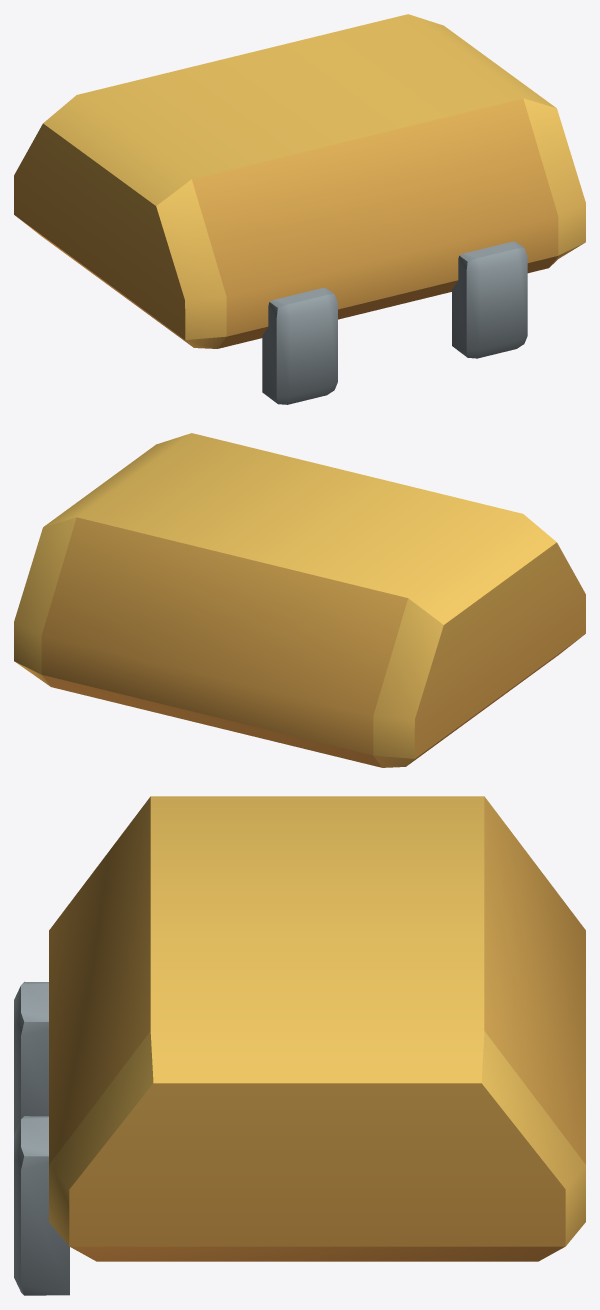
File: ammo_crate_withLid_ammo_crate_lid.obj
The picture shows the model from 3 angles, top to bottom: view 1: azimuth 30°, elevation 25°; view 2: azimuth 150°, elevation 25°; view 3: azimuth 270°, elevation 25°; orthographic projection. The views are drawn at different scales.
Visible parts, largest first — view 1: ammo_crate_lid; view 2: ammo_crate_lid; view 3: ammo_crate_lid.
Boxes of the visible parts, left/top/right/bottom form: ammo_crate_lid: left=14, top=14, right=585, bottom=404; ammo_crate_lid: left=14, top=433, right=585, bottom=767; ammo_crate_lid: left=14, top=796, right=585, bottom=1295.
Bounding box in the file's own units: 0.575 × 0.2816 × 0.4901.
Materials: 1 (1 with a texture image).
